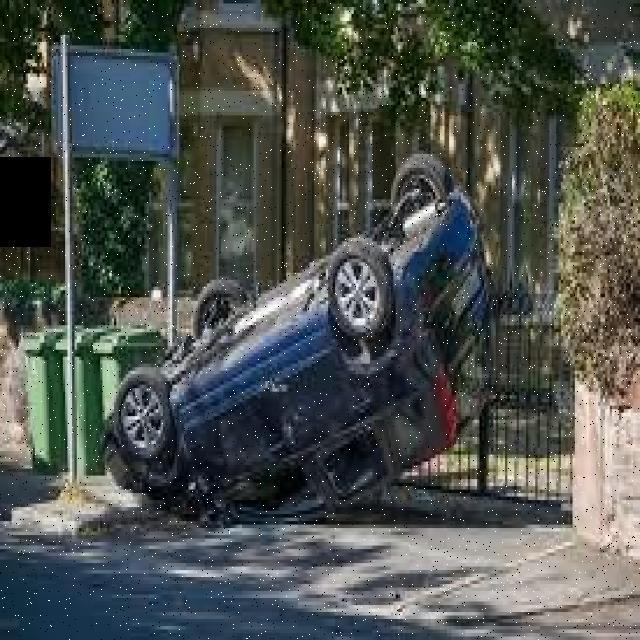severe: (99, 148, 504, 534)
